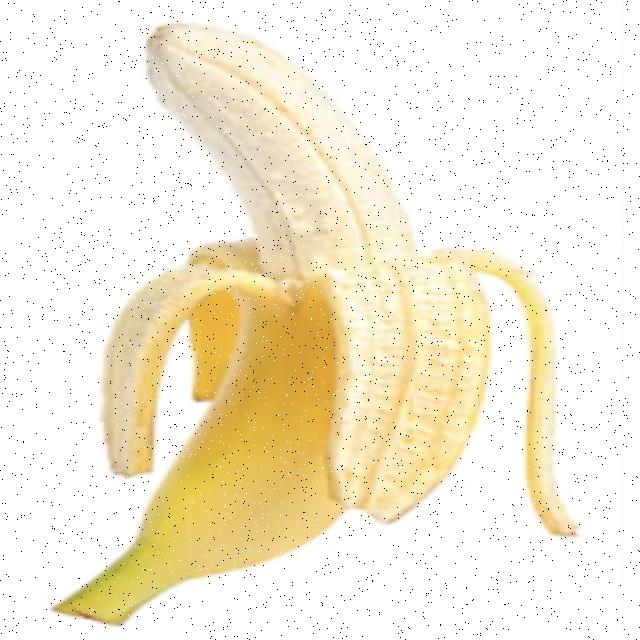god quality banana: (55, 24, 576, 625)
